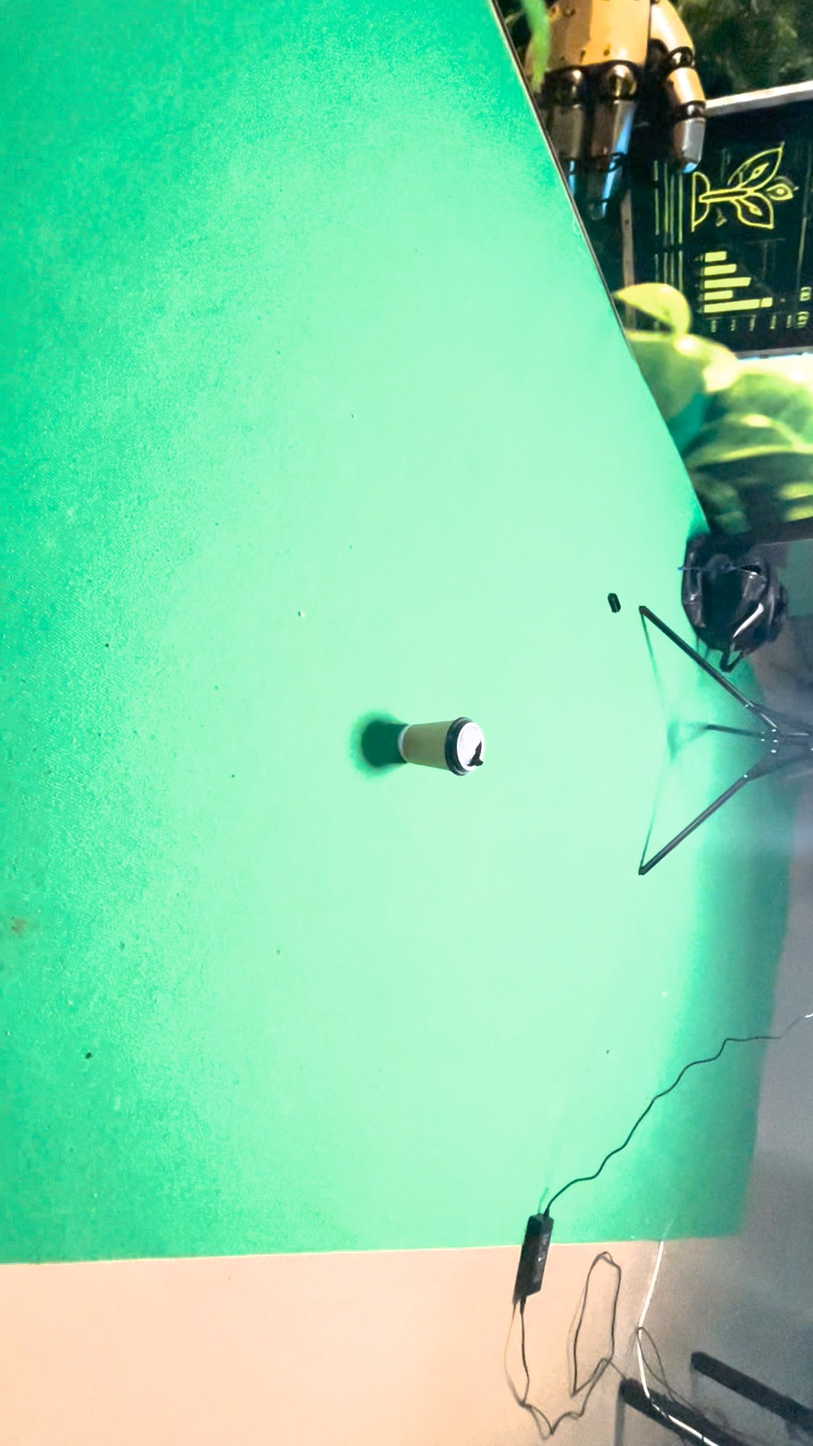cup: (435, 455, 522, 871)
